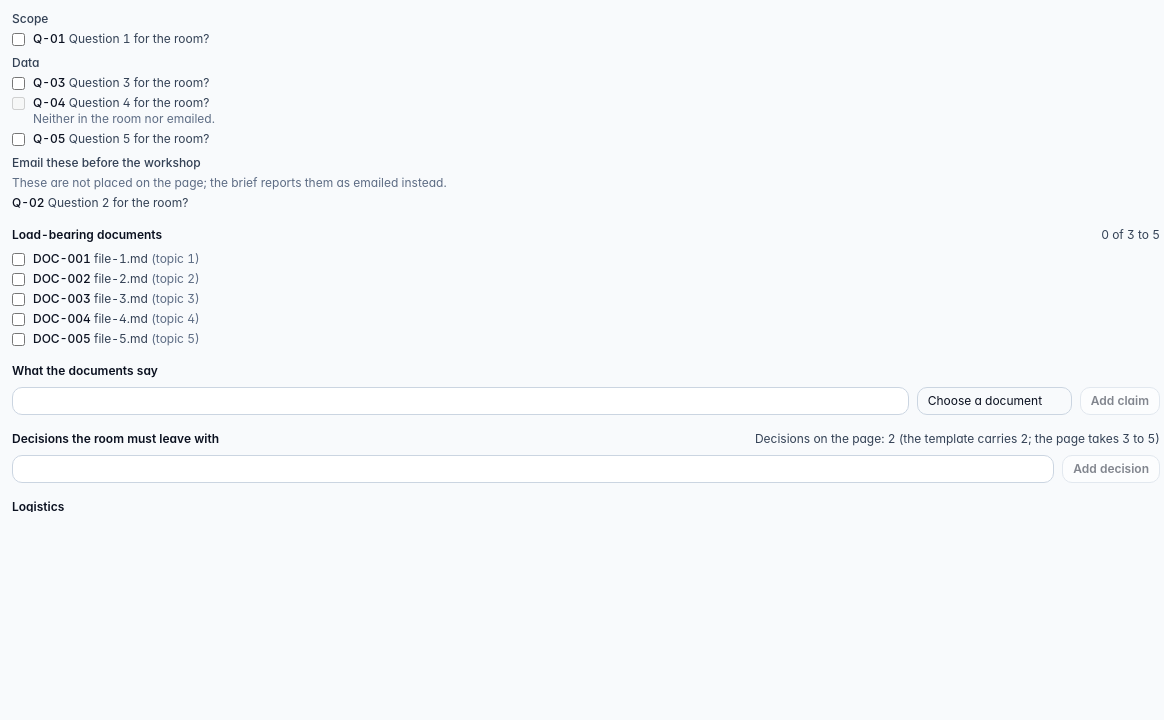
Scenario: BriefForm: load-bearing documents › lists id, file name and topics with the counter against the range
(page scrolled)
Expected: the text "DOC-002 file-2.md (topic 2)" is shown, top-left (33, 271), bottom-right (200, 287)
Expected: the text "(topic 2)" is shown, top-left (148, 271), bottom-right (200, 286)
Click the checkbox named "Load-bearing DOC-001".
click(18, 260)  # box top-left (12, 253), bottom-right (25, 266)
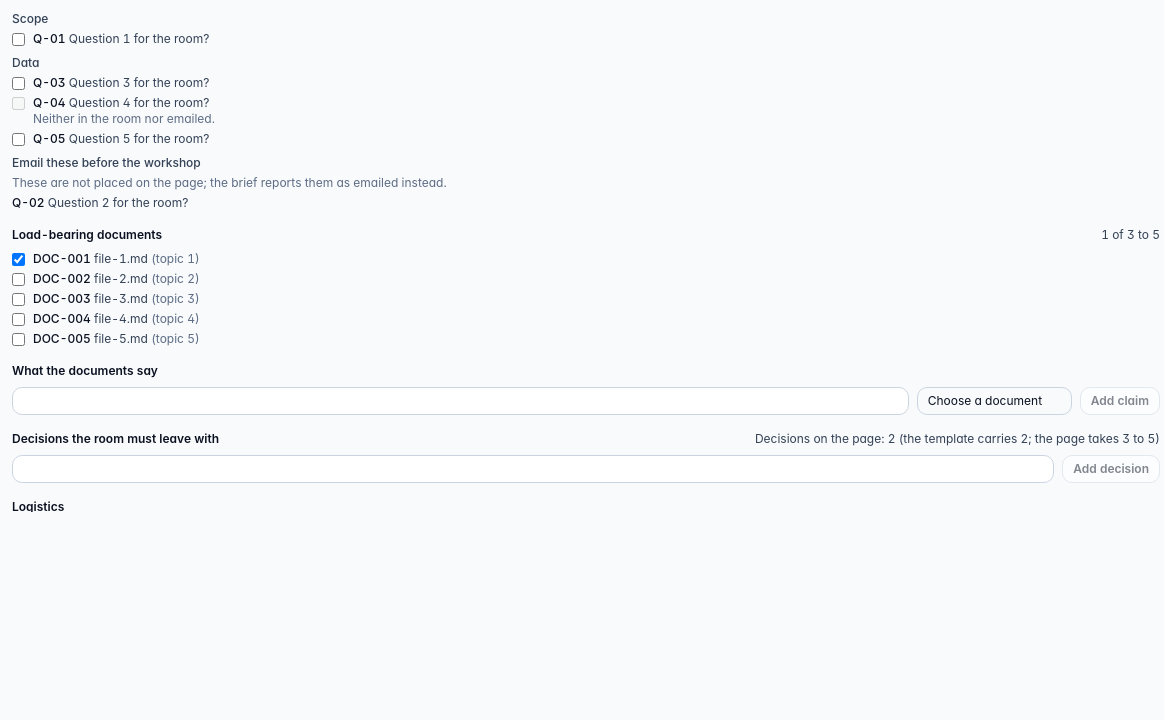
Click the checkbox named "Load-bearing DOC-004".
click(18, 320)  # box top-left (12, 313), bottom-right (25, 326)
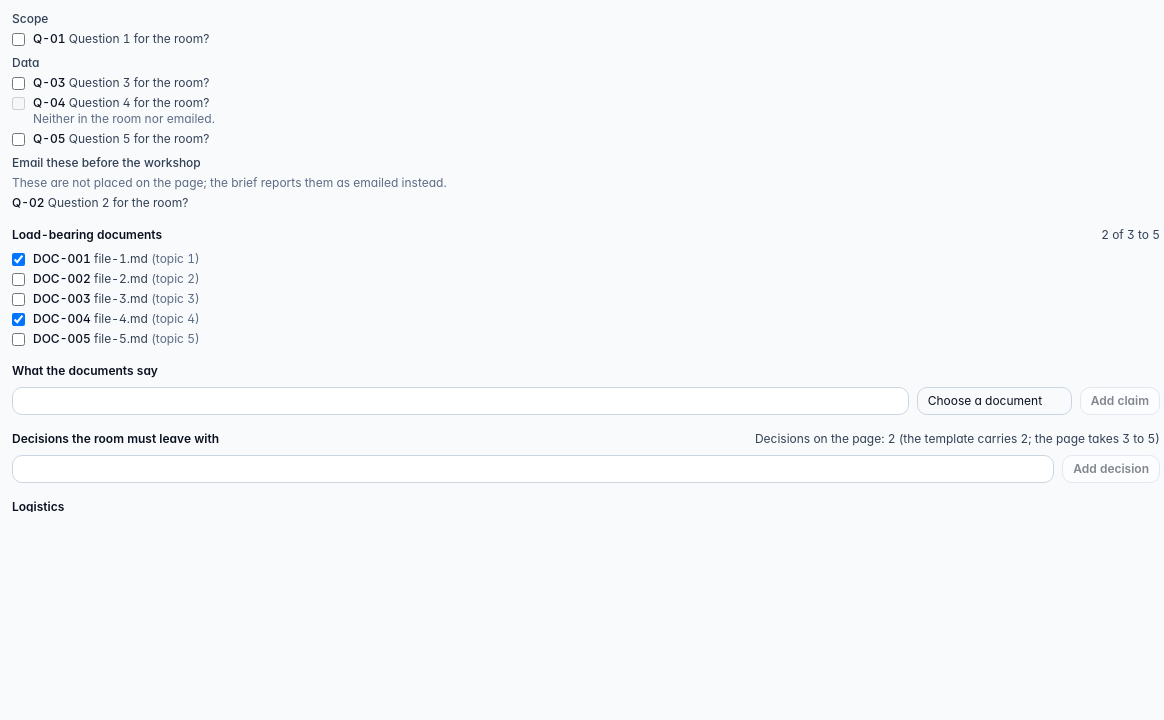
Now the text with test id "brief-documents-counter" reads "2 of 3 to 5", box top-left (1101, 227), bottom-right (1160, 242)
